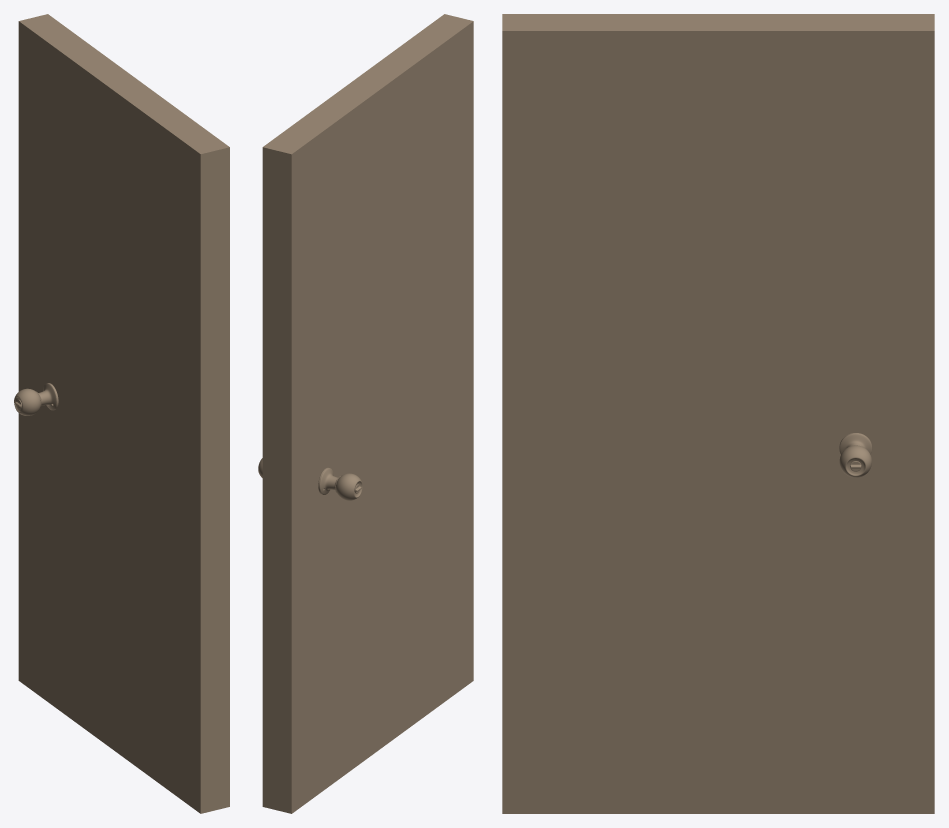
The model's file is Door_Room.fbx.
3 views of the same model, side by side, from view 1: azimuth 30°, elevation 25°; view 2: azimuth 150°, elevation 25°; view 3: azimuth 270°, elevation 25° (orthographic). The views are drawn at different scales.
Parts seen in each view (by area): view 1: Door_Room, polySurface712; view 2: Door_Room, polySurface712; view 3: Door_Room, polySurface712.
Part boxes in pixels (x1=…): Door_Room: x1=18, y1=14, x2=229, y2=813; polySurface712: x1=14, y1=388, x2=40, y2=415; Door_Room: x1=262, y1=14, x2=473, y2=813; polySurface712: x1=335, y1=473, x2=362, y2=500; Door_Room: x1=502, y1=14, x2=934, y2=813; polySurface712: x1=839, y1=445, x2=871, y2=477.
Size of the model in its own units: 0.4233 by 2.72 by 1.36.
